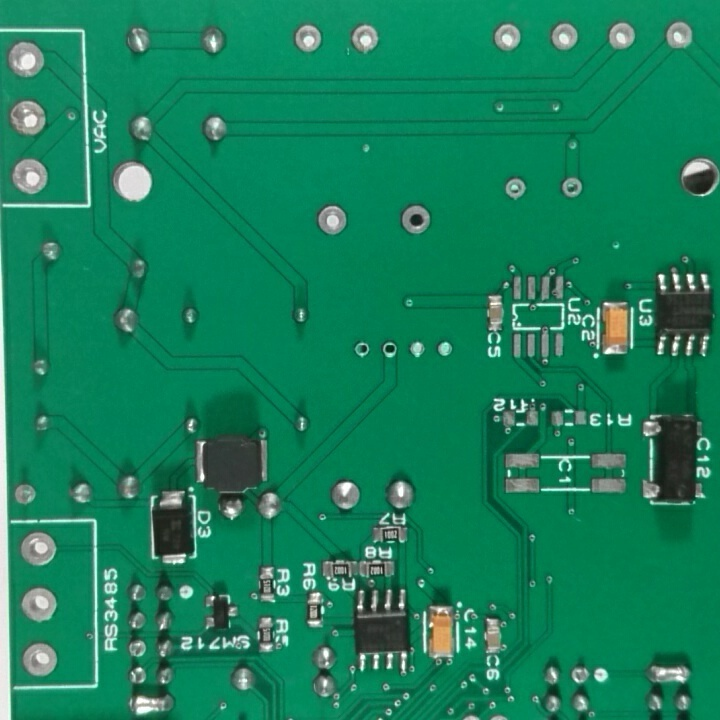F: (9, 155, 52, 201), (17, 583, 62, 626), (4, 98, 51, 139), (17, 529, 61, 568), (6, 39, 47, 80), (21, 638, 60, 679), (345, 21, 384, 60), (289, 22, 330, 57), (546, 20, 584, 56), (396, 203, 435, 238), (662, 18, 698, 55), (487, 22, 527, 55), (605, 18, 639, 54), (314, 201, 350, 235), (501, 175, 533, 203), (10, 483, 41, 511), (559, 175, 586, 200), (568, 665, 593, 688), (125, 639, 151, 661), (436, 338, 458, 361), (407, 340, 432, 360), (352, 340, 376, 360), (380, 340, 403, 360)
P: (641, 660, 696, 689), (123, 690, 178, 718)
